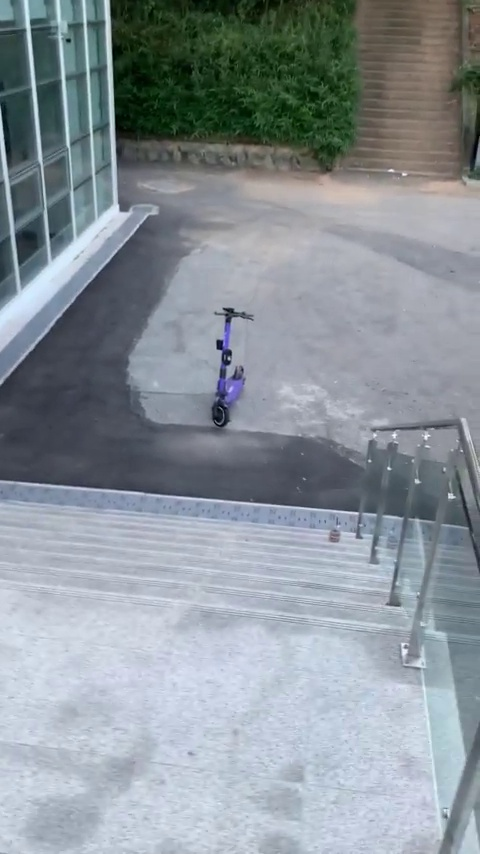beam: (200, 296, 255, 442)
